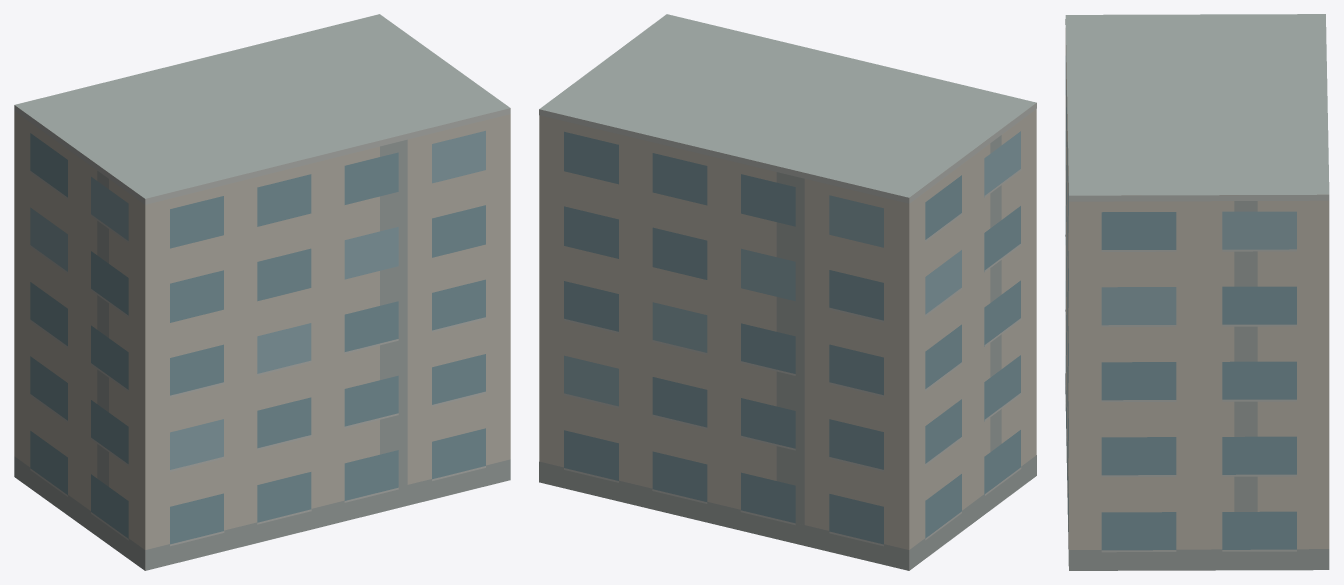
Rendered from survey-upis-32874043.glb.
3 views of the same model, side by side, from view 1: azimuth 30°, elevation 25°; view 2: azimuth 150°, elevation 25°; view 3: azimuth 270°, elevation 25° (orthographic).
Visible parts, largest first — view 1: survey-upis-32874043.tmp; view 2: survey-upis-32874043.tmp; view 3: survey-upis-32874043.tmp.
Part boxes in pixels (bbox=[...]): survey-upis-32874043.tmp: bbox=[14, 14, 510, 570]; survey-upis-32874043.tmp: bbox=[539, 14, 1036, 570]; survey-upis-32874043.tmp: bbox=[1065, 14, 1329, 570].
Size of the model in its own units: 15.84 by 15.25 by 9.73.
